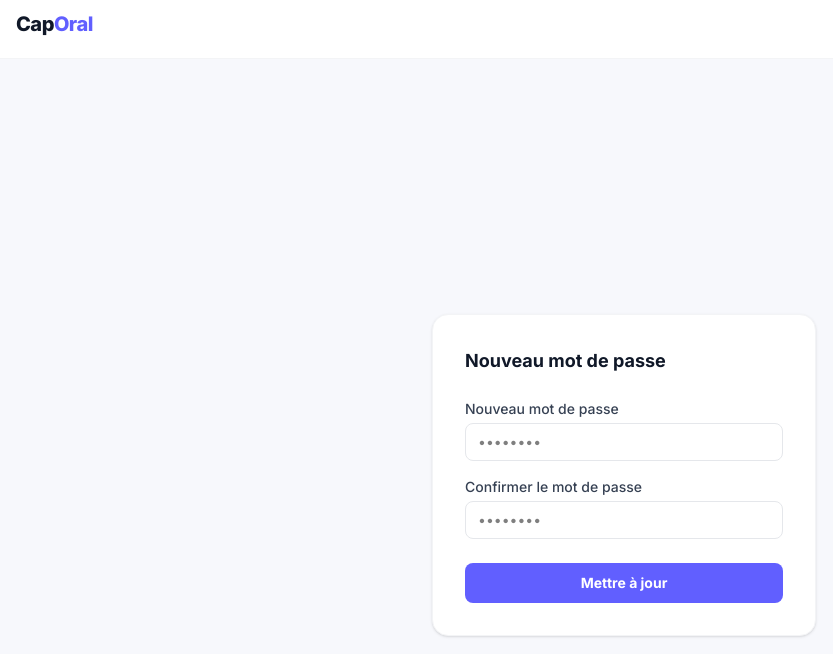
ResetPasswordPage › shows success message after update
In the 1st password field with placeholder "••••••••": (624,442) [465,422,783,460], type "abcdef"
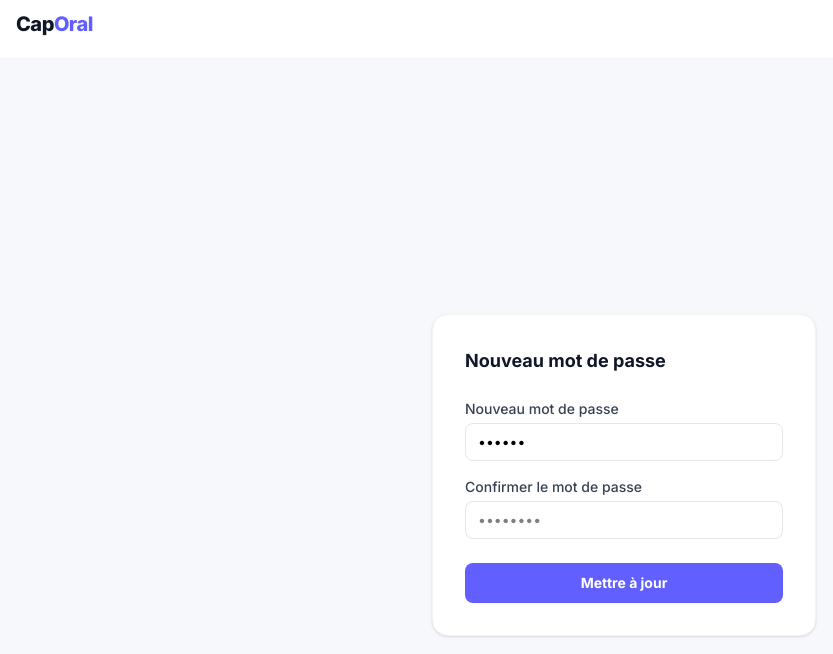
In the password field with placeholder "••••••••": (624,520) [465,500,783,538], type "abcdef"
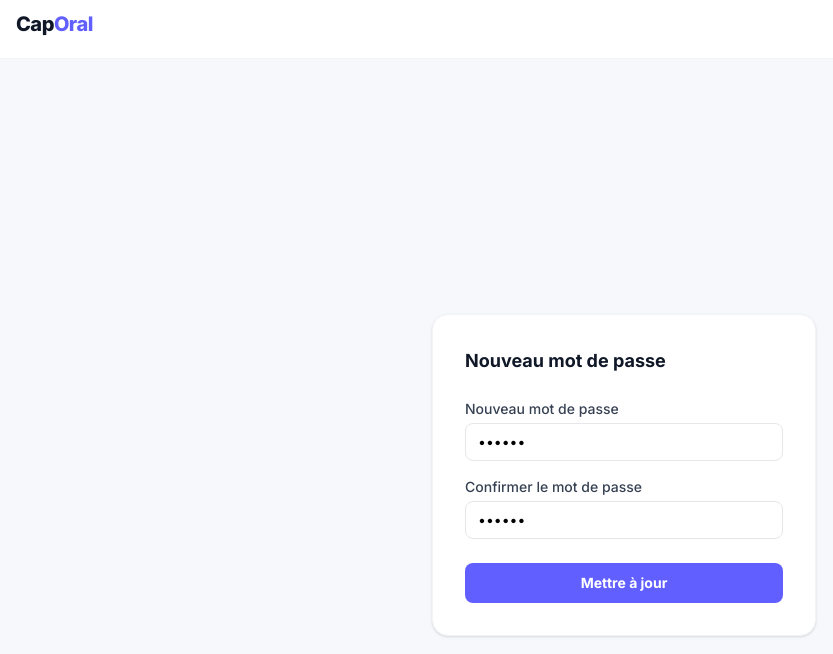
Submit the form, box [465,398,783,602]
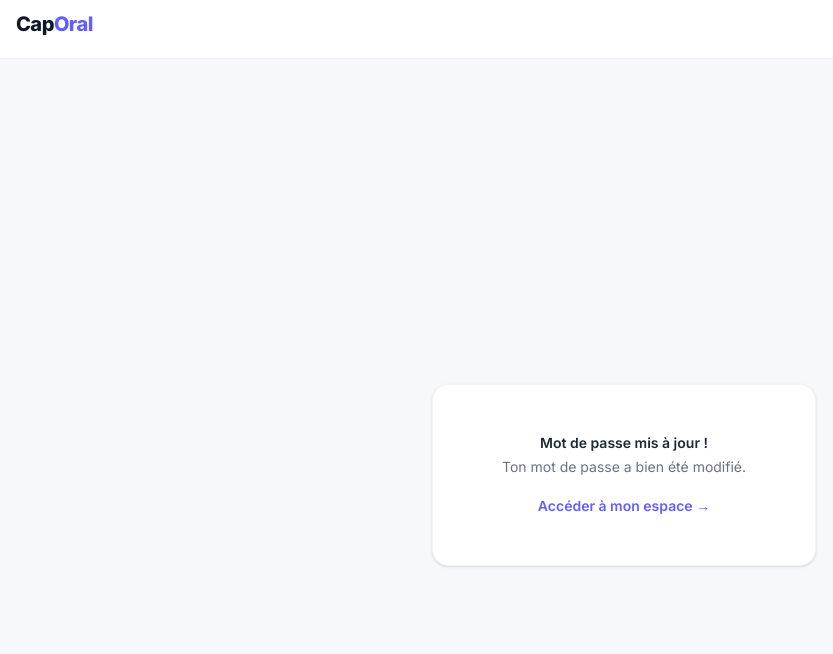
Now the text "Mot de passe mis à jour !" is shown, box [540,434,708,450]
